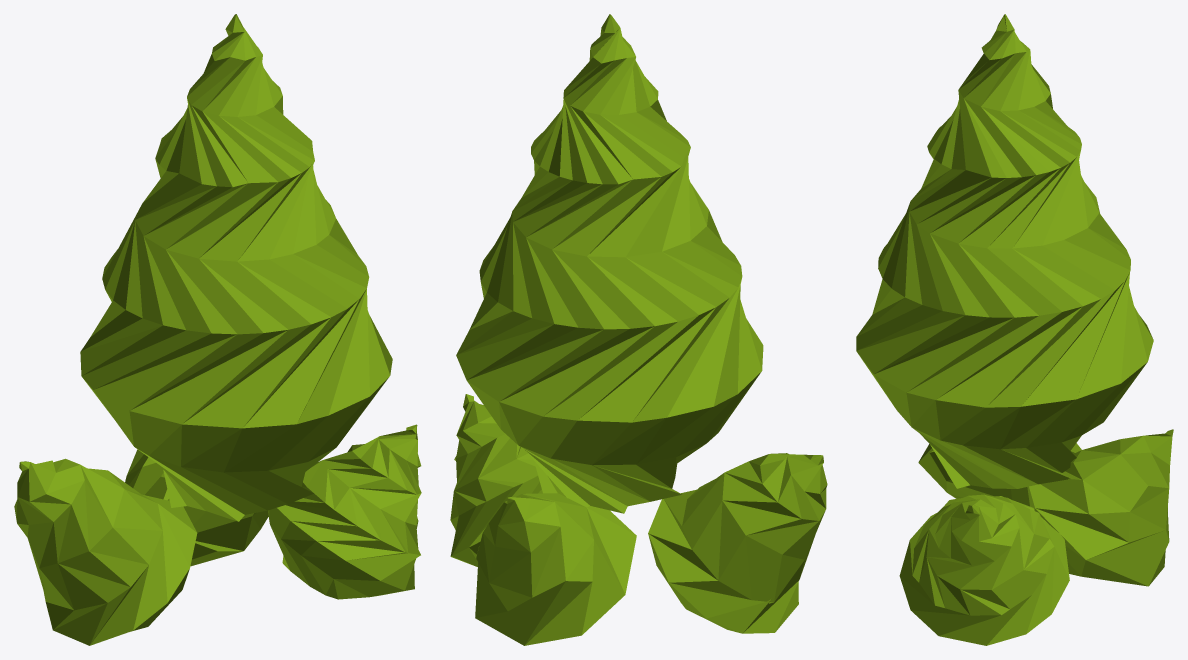
Rendered from tree-summer-leaves-005.glb.
3 views of the same model, side by side, from view 1: azimuth 30°, elevation 25°; view 2: azimuth 150°, elevation 25°; view 3: azimuth 270°, elevation 25° (orthographic). The views are drawn at different scales.
Visible parts, largest first — view 1: Circle.008_226; view 2: Circle.008_226; view 3: Circle.008_226.
Part boxes in pixels (x1,y1,x2,y2): Circle.008_226: [14, 14, 421, 645]; Circle.008_226: [450, 14, 827, 645]; Circle.008_226: [856, 14, 1173, 645].
Bounding box in the file's own units: 1.05 × 1.56 × 0.7933.
